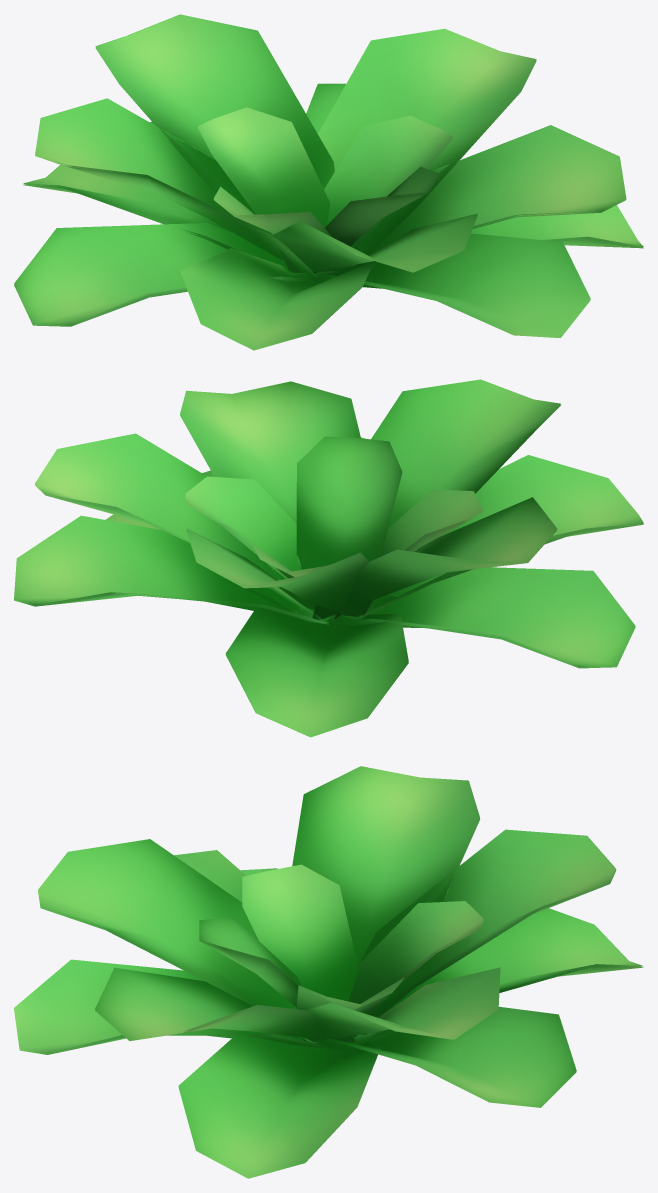
File: petite plante fbx.fbx
3 views of the same model, one above another, from view 1: azimuth 30°, elevation 25°; view 2: azimuth 150°, elevation 25°; view 3: azimuth 270°, elevation 25° (orthographic).
Visible parts, largest first — view 1: Petite Plante001; view 2: Petite Plante001; view 3: Petite Plante001.
Part boxes in pixels (box(x1,y1,x2,y2)): Petite Plante001: box(14, 14, 643, 350); Petite Plante001: box(14, 379, 643, 737); Petite Plante001: box(14, 766, 643, 1178).
Size of the model in its own units: 14.19 by 3.88 by 13.68.
